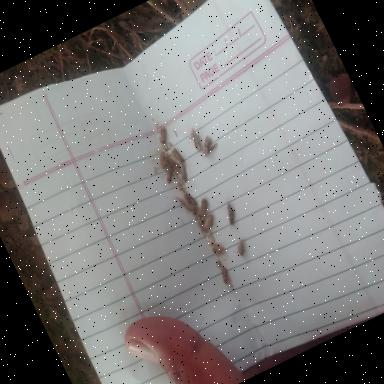pbw: (174, 190, 198, 217), (219, 200, 240, 228), (196, 132, 219, 156), (230, 237, 249, 260), (194, 197, 212, 216), (154, 125, 170, 146), (188, 131, 204, 151), (199, 213, 217, 230), (161, 166, 177, 184), (217, 265, 232, 284), (171, 145, 185, 165), (176, 164, 190, 183), (184, 190, 197, 206)
